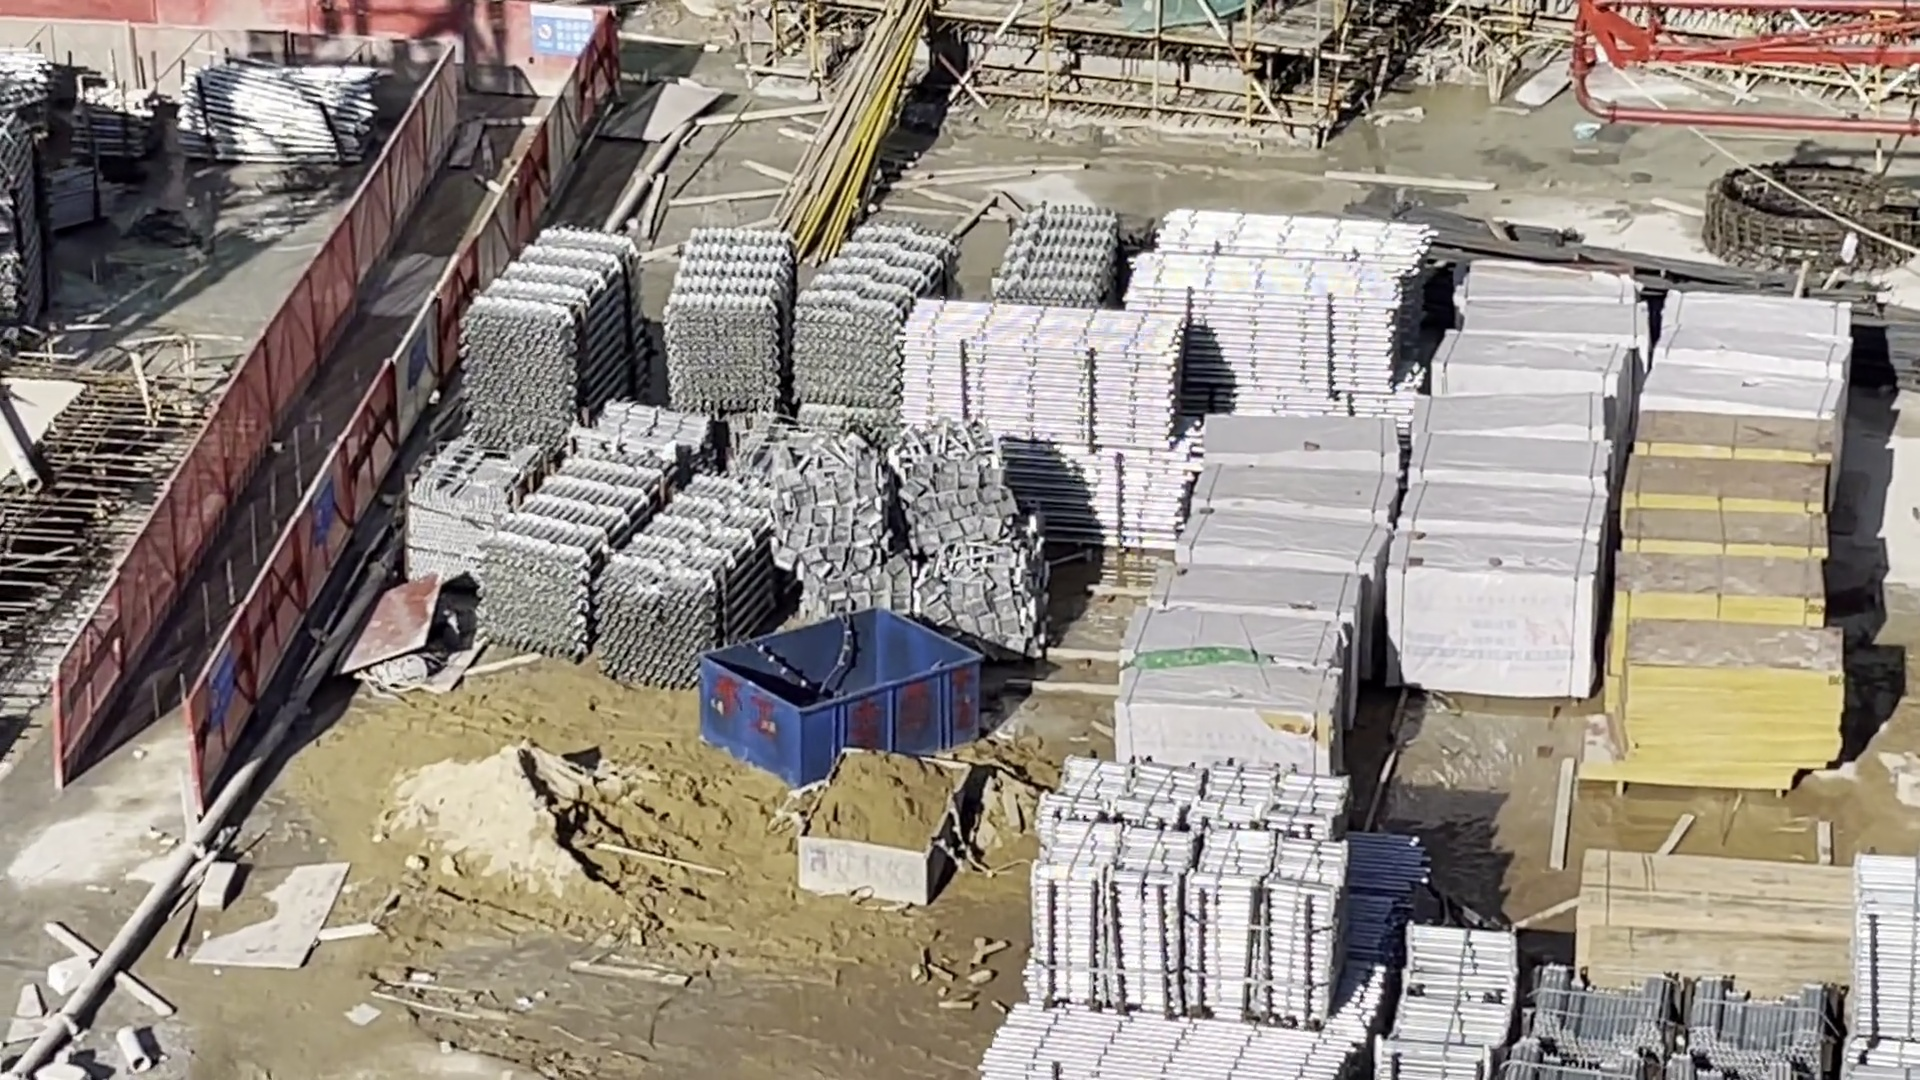board: (1611, 426, 1829, 800), (1586, 849, 1842, 1001)
fence: (61, 62, 603, 753), (3, 1, 520, 102)
hopper: (698, 611, 982, 785), (802, 745, 971, 905)
rebar: (1443, 219, 1916, 369)
scaffold: (1042, 761, 1340, 1015), (906, 305, 1189, 542), (485, 464, 778, 680), (1133, 210, 1423, 407), (669, 225, 955, 404), (463, 233, 644, 454), (1520, 976, 1840, 1062), (993, 1004, 1331, 1080), (1379, 924, 1510, 1080), (181, 73, 371, 162), (1851, 853, 1919, 1080), (1001, 206, 1120, 306), (73, 87, 158, 157)
slogan: (527, 7, 597, 61), (309, 464, 335, 549), (208, 647, 235, 727)
